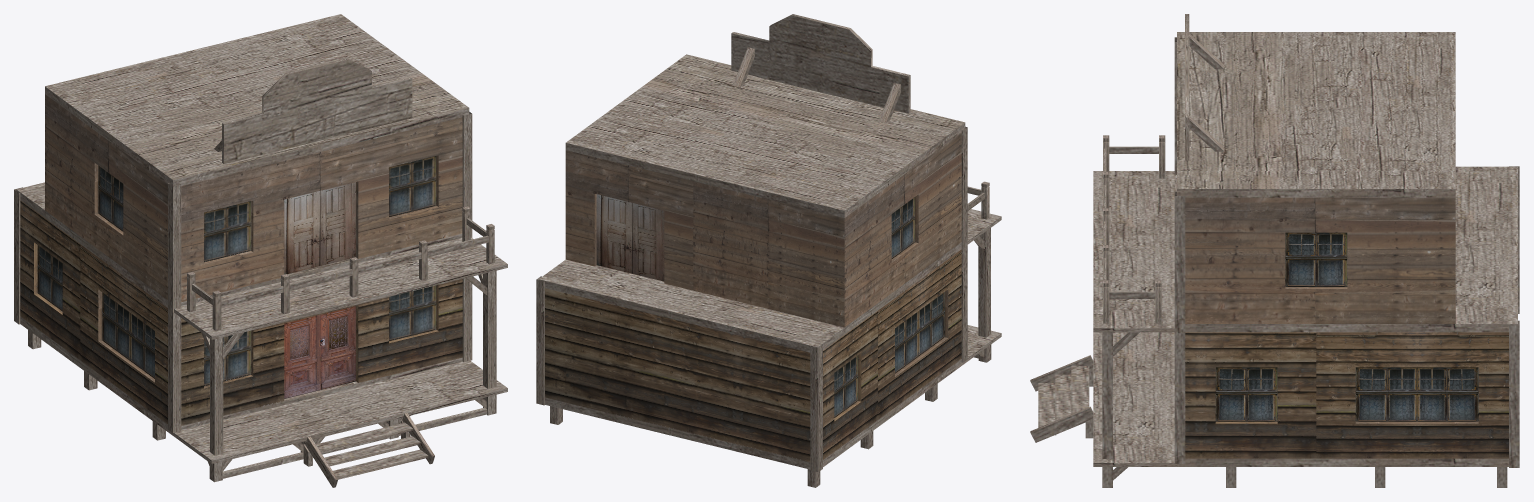
File: House3.fbx
3 views of the same model, side by side, from view 1: azimuth 30°, elevation 25°; view 2: azimuth 150°, elevation 25°; view 3: azimuth 270°, elevation 25° (orthographic). The views are drawn at different scales.
Parts seen in each view (by area): view 1: Plane004, House3, Box005, Plane003, Box007, Box033, Box006, Box004, Box003, Box021, Box020, Box009 (+10 smaller); view 2: House3, Box005, Box004, Box033, Box003, Box032, Box009, Box022, Box021, Box020, Box006, Box007; view 3: House3, Box005, Box004, Box006, Box007, Box003, Box019, Box022, Box018, Box010, Box096, Box090 (+4 smaller).
Part boxes in pixels (left/top/right/bottom): Plane004: left=181, top=117, right=462, bottom=301; House3: left=20, top=94, right=357, bottom=423; Box005: left=45, top=14, right=469, bottom=186; Plane003: left=181, top=279, right=462, bottom=425; Box007: left=173, top=360, right=507, bottom=463; Box033: left=222, top=58, right=412, bottom=163; Box006: left=174, top=237, right=507, bottom=339; Box004: left=16, top=182, right=462, bottom=307; Box003: left=20, top=316, right=462, bottom=435; Box021: left=168, top=183, right=181, bottom=312; Box020: left=168, top=309, right=181, bottom=432; Box009: left=210, top=337, right=223, bottom=455; House3: left=545, top=133, right=961, bottom=461; Box005: left=565, top=54, right=965, bottom=217; Box004: left=538, top=242, right=961, bottom=352; Box033: left=731, top=14, right=910, bottom=113; Box003: left=545, top=359, right=965, bottom=469; Box032: left=810, top=345, right=822, bottom=472; Box009: left=978, top=228, right=990, bottom=337; Box022: left=536, top=276, right=544, bottom=405; Box021: left=961, top=126, right=967, bottom=249; Box020: left=961, top=246, right=967, bottom=362; Box006: left=967, top=209, right=1001, bottom=244; Box007: left=965, top=325, right=1001, bottom=362; House3: left=1185, top=197, right=1508, bottom=458; Box005: left=1177, top=32, right=1455, bottom=197; Box004: left=1185, top=166, right=1517, bottom=332; Box006: left=1093, top=171, right=1176, bottom=332; Box007: left=1093, top=332, right=1176, bottom=466; Box003: left=1177, top=458, right=1508, bottom=466; Box019: left=1174, top=191, right=1185, bottom=333; Box022: left=1509, top=320, right=1519, bottom=467; Box018: left=1174, top=333, right=1185, bottom=463; Box010: left=1102, top=332, right=1112, bottom=458; Box096: left=1030, top=406, right=1093, bottom=442; Box090: left=1071, top=366, right=1089, bottom=414.
Size of the model in its own units: 809 by 922 by 1053.
